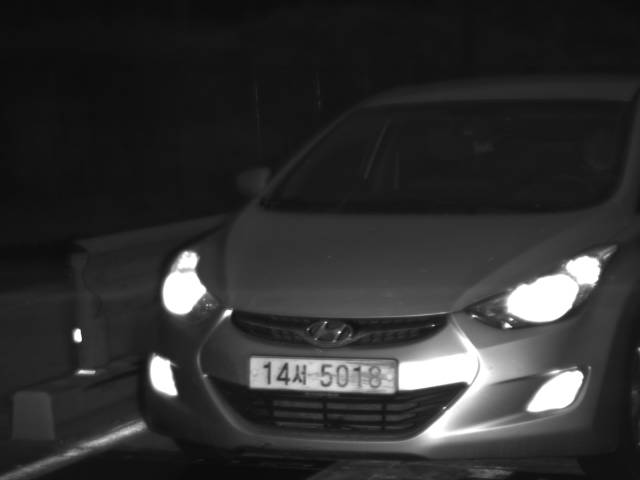car: (135, 73, 640, 480)
plate: (247, 354, 400, 394)
